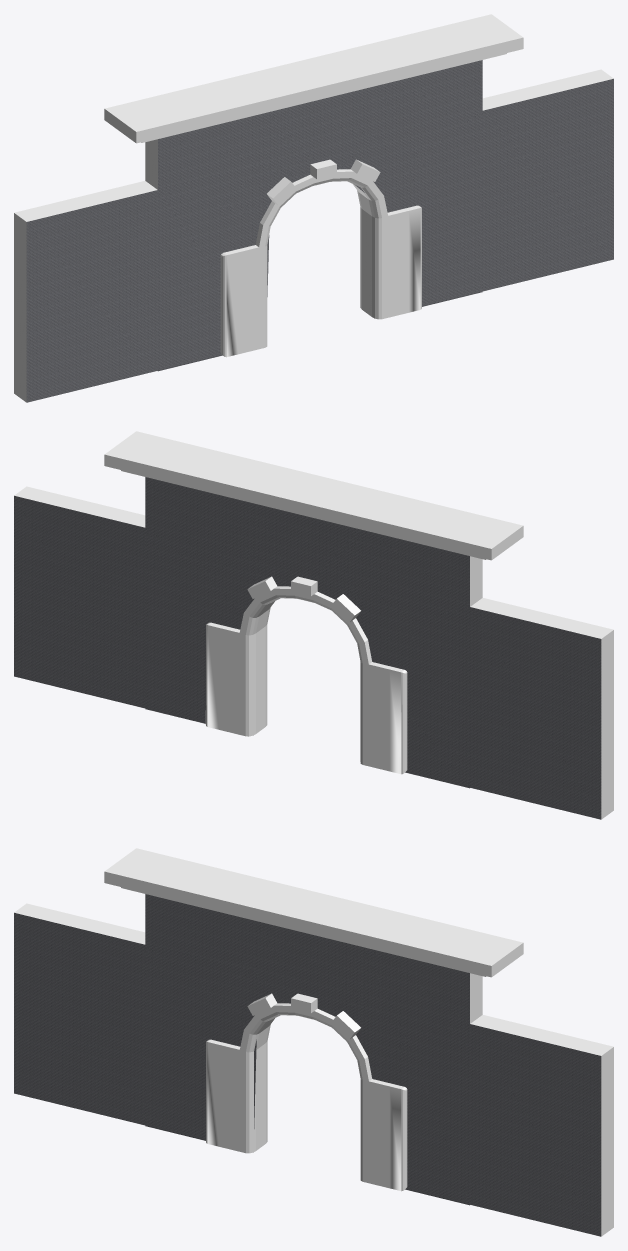
Rendered from CastleGate_Open.fbx.
3 views of the same model, one above another, from view 1: azimuth 30°, elevation 25°; view 2: azimuth 150°, elevation 25°; view 3: azimuth 330°, elevation 25° (orthographic).
Parts seen in each view (by area): view 1: CastleGate_Open; view 2: CastleGate_Open; view 3: CastleGate_Open.
Boxes of the visible parts, x1,y1,x2,y2 form: CastleGate_Open: (14,14,613,402); CastleGate_Open: (14,431,613,819); CastleGate_Open: (14,848,613,1236).
Bounding box in the file's own units: 5296 × 2189 × 498.
2 materials, 1 textured.
